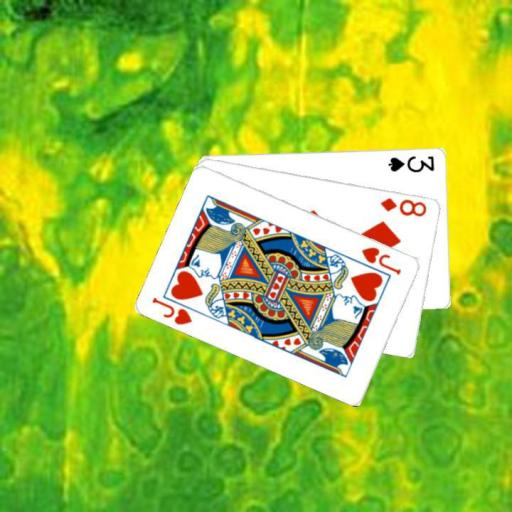3S: (385, 152, 436, 174)
8D: (377, 194, 429, 218)
JH: (359, 243, 404, 276), (149, 294, 194, 326)
